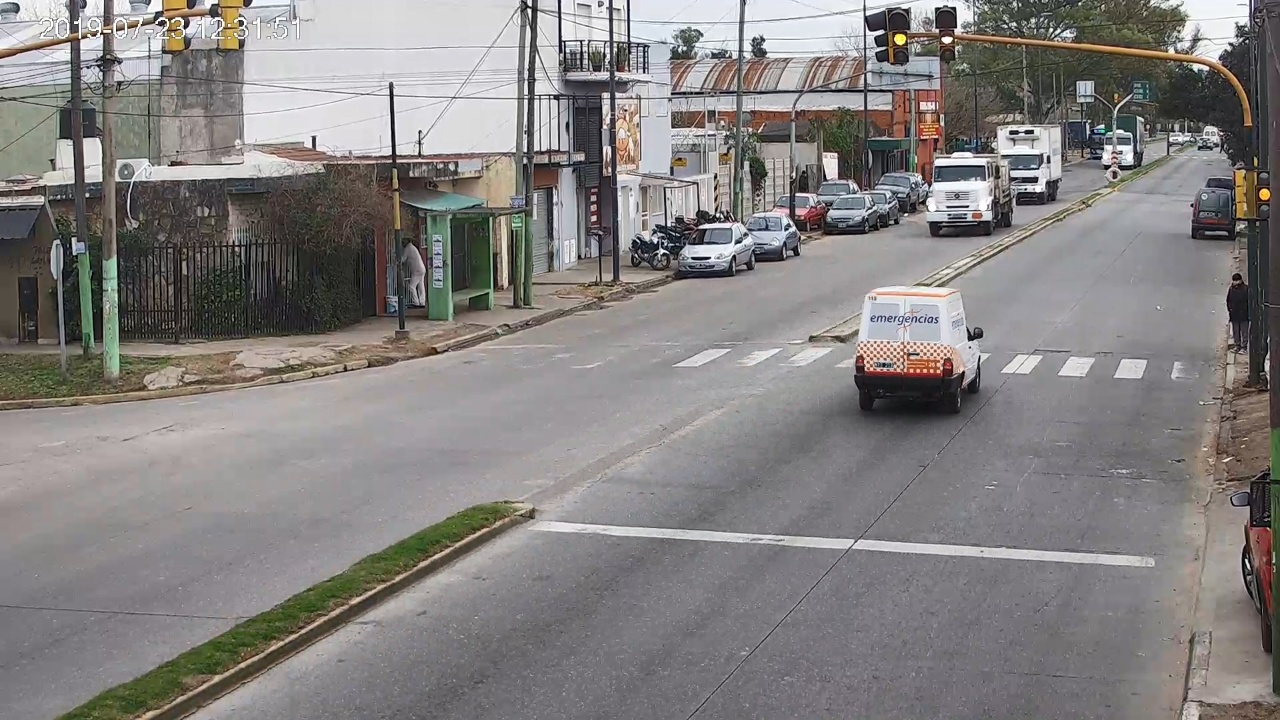paramedic: (854, 286, 984, 411)
traffic light: (889, 8, 910, 63), (936, 8, 957, 62), (1256, 169, 1269, 219)
